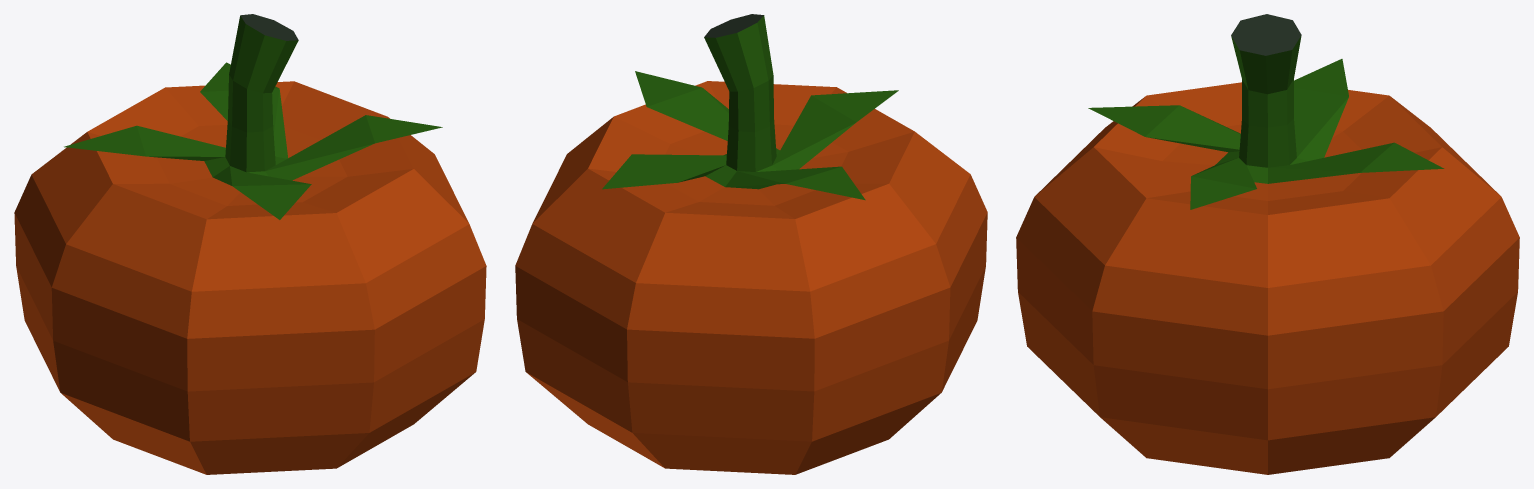
Rendered from Tomato.fbx.
The picture shows the model from 3 angles, left to right: view 1: azimuth 30°, elevation 25°; view 2: azimuth 150°, elevation 25°; view 3: azimuth 270°, elevation 25°; orthographic projection.
Parts seen in each view (by area): view 1: Tomato; view 2: Tomato; view 3: Tomato.
Part boxes in pixels (x1=…): Tomato: x1=14, y1=14, x2=486, y2=474; Tomato: x1=515, y1=14, x2=987, y2=474; Tomato: x1=1016, y1=14, x2=1519, y2=474.
Bounding box in the file's own units: 9.25 × 9.69 × 9.99.
